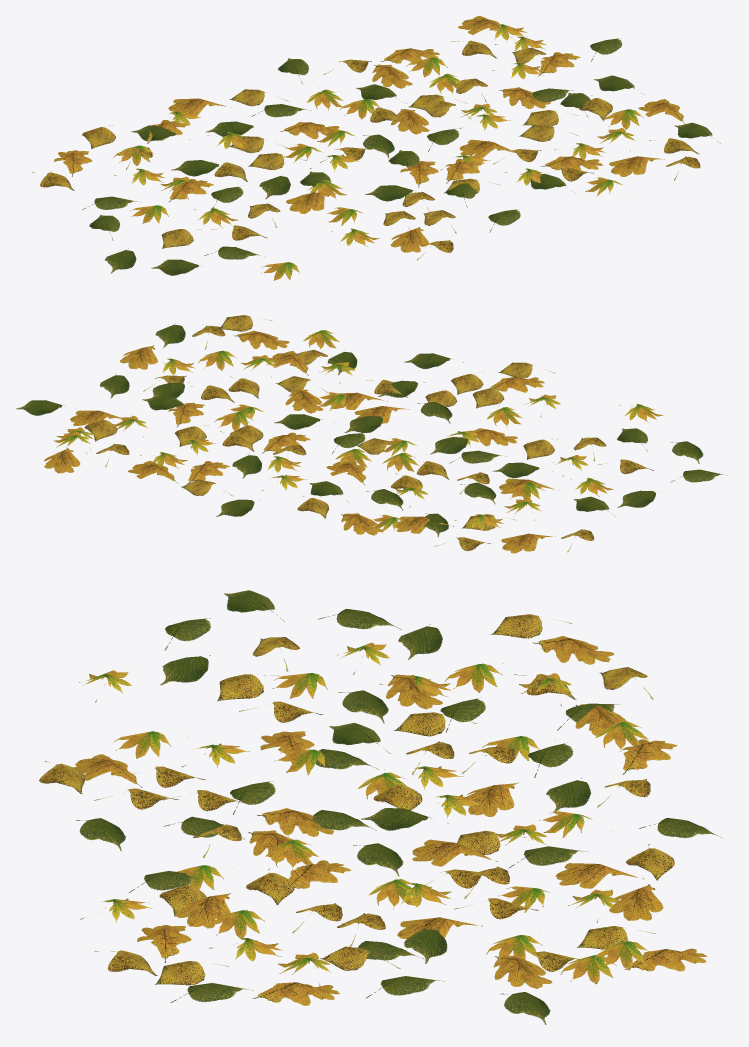
The model's file is Fallen_Leaves_03.fbx.
3 views of the same model, one above another, from view 1: azimuth 30°, elevation 25°; view 2: azimuth 150°, elevation 25°; view 3: azimuth 270°, elevation 25° (orthographic). The views are drawn at different scales.
Visible parts, largest first — view 1: Fallen_Leaves_03_LOD0; view 2: Fallen_Leaves_03_LOD0; view 3: Fallen_Leaves_03_LOD0.
Boxes of the visible parts, x1,y1,x2,y2 form: Fallen_Leaves_03_LOD0: [32, 16, 720, 280]; Fallen_Leaves_03_LOD0: [16, 315, 727, 553]; Fallen_Leaves_03_LOD0: [39, 590, 722, 1024].
Size of what is drawn, in the model's own units: 207 by 4.73 by 141.
